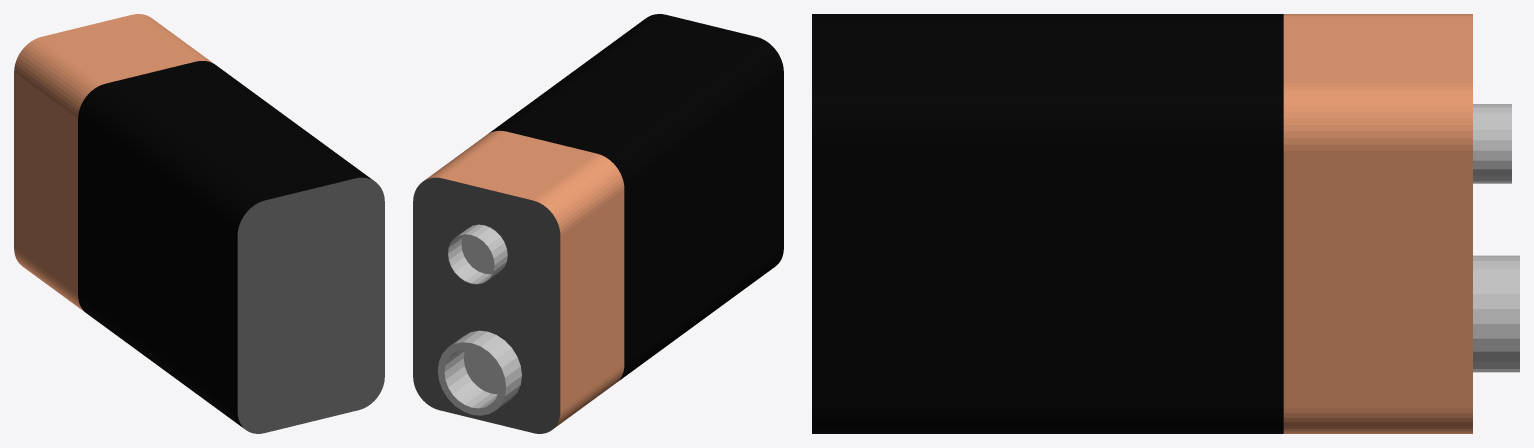
Rendered from 9V+Battery.fbx.
The picture shows the model from 3 angles, left to right: view 1: azimuth 30°, elevation 25°; view 2: azimuth 150°, elevation 25°; view 3: azimuth 270°, elevation 25°; orthographic projection. The views are drawn at different scales.
Visible parts, largest first — view 1: imagetostl_mesh0, imagetostl_mesh156, imagetostl_mesh157, imagetostl_mesh1, imagetostl_mesh4, imagetostl_mesh181, imagetostl_mesh172, imagetostl_mesh179, imagetostl_mesh180, imagetostl_mesh178, imagetostl_mesh175, imagetostl_mesh174 (+18 smaller); view 2: imagetostl_mesh156, imagetostl_mesh105, imagetostl_mesh157, imagetostl_mesh1, imagetostl_mesh4, imagetostl_mesh55, imagetostl_mesh80, imagetostl_mesh181, imagetostl_mesh172, imagetostl_mesh179, imagetostl_mesh180, imagetostl_mesh5 (+20 smaller); view 3: imagetostl_mesh154, imagetostl_mesh3, imagetostl_mesh157, imagetostl_mesh4, imagetostl_mesh161, imagetostl_mesh163, imagetostl_mesh164, imagetostl_mesh167, imagetostl_mesh168, imagetostl_mesh169, imagetostl_mesh162, imagetostl_mesh165 (+32 smaller).
Boxes of the visible parts, box(x1,y1,x2,y2) form: imagetostl_mesh0: box(237, 177, 384, 433); imagetostl_mesh156: box(78, 119, 237, 411); imagetostl_mesh157: box(106, 61, 354, 200); imagetostl_mesh1: box(14, 72, 77, 294); imagetostl_mesh4: box(42, 15, 195, 83); imagetostl_mesh181: box(84, 97, 245, 216); imagetostl_mesh172: box(86, 94, 247, 213); imagetostl_mesh179: box(82, 100, 242, 220); imagetostl_mesh180: box(89, 91, 250, 210); imagetostl_mesh178: box(80, 104, 240, 223); imagetostl_mesh175: box(92, 88, 253, 207); imagetostl_mesh174: box(79, 107, 239, 227); imagetostl_mesh156: box(624, 72, 783, 364); imagetostl_mesh105: box(413, 177, 560, 433); imagetostl_mesh157: box(507, 15, 755, 153); imagetostl_mesh1: box(560, 189, 624, 411); imagetostl_mesh4: box(443, 131, 596, 200); imagetostl_mesh55: box(437, 342, 505, 415); imagetostl_mesh80: box(463, 349, 499, 394); imagetostl_mesh181: box(616, 50, 777, 169); imagetostl_mesh172: box(614, 47, 775, 166); imagetostl_mesh179: box(619, 53, 779, 173); imagetostl_mesh180: box(611, 44, 772, 163); imagetostl_mesh5: box(461, 235, 493, 274); imagetostl_mesh154: box(812, 150, 1283, 408); imagetostl_mesh3: box(1283, 150, 1472, 408); imagetostl_mesh157: box(812, 18, 1283, 83); imagetostl_mesh4: box(1283, 18, 1472, 83); imagetostl_mesh161: box(812, 118, 1283, 124); imagetostl_mesh163: box(812, 125, 1283, 131); imagetostl_mesh164: box(812, 144, 1283, 150); imagetostl_mesh167: box(812, 112, 1283, 118); imagetostl_mesh168: box(812, 138, 1283, 144); imagetostl_mesh169: box(812, 131, 1283, 137); imagetostl_mesh162: box(812, 100, 1283, 105); imagetostl_mesh165: box(812, 95, 1283, 100).
Bounding box in the file's own units: 15275 × 23050 × 43000.
